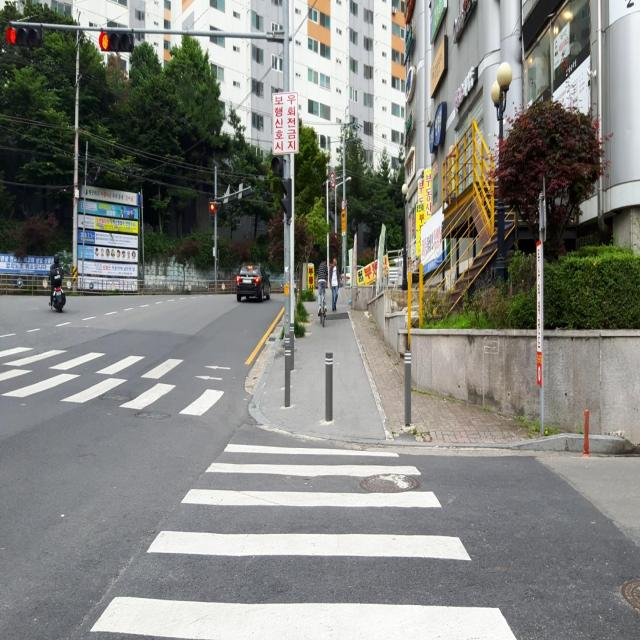횡단보도: (87, 439, 518, 640), (0, 348, 224, 415)
